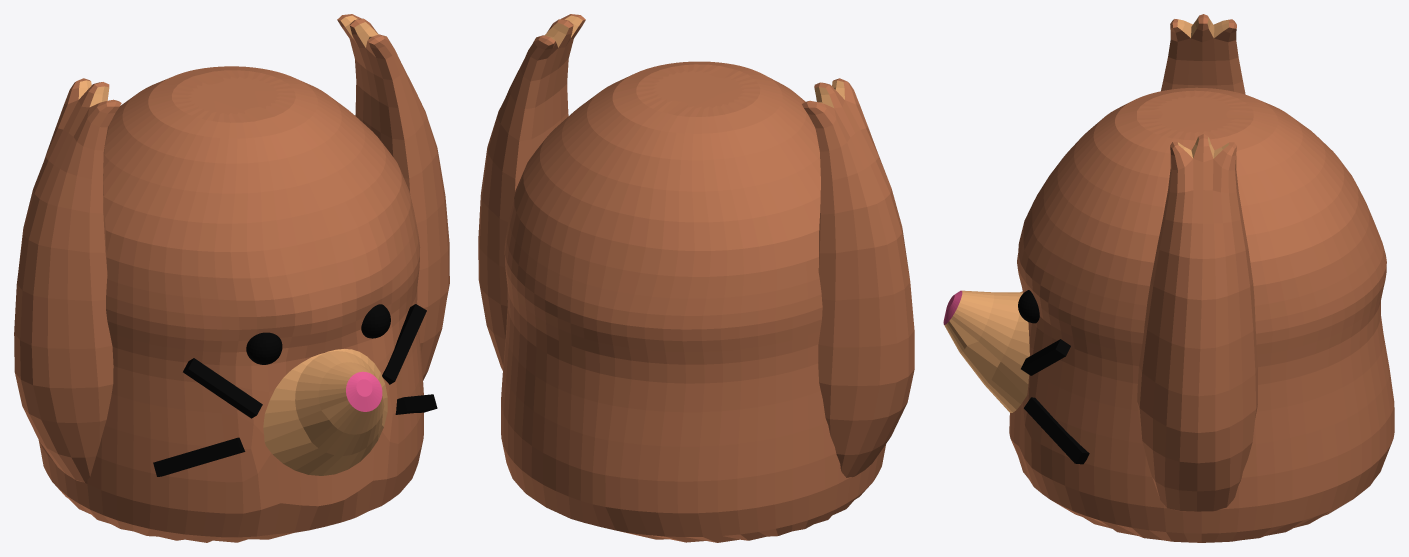
Rendered from BombMole.fbx.
3 renders of one model, left to right at view 1: azimuth 30°, elevation 25°; view 2: azimuth 150°, elevation 25°; view 3: azimuth 270°, elevation 25°, orthographic. The views are drawn at different scales.
Parts seen in each view (by area): view 1: Cylinder, Cube.002, Cylinder.001, Cube, Cube.001, Sphere; view 2: Cylinder, Cube.002; view 3: Cylinder, Cube.002, Cylinder.001, Cube.001, Cube, Sphere.
Part boxes in pixels (bbox=[...]): Cylinder: bbox=[38, 66, 423, 542]; Cube.002: bbox=[14, 14, 449, 482]; Cylinder.001: bbox=[263, 349, 387, 475]; Cube: bbox=[183, 304, 426, 418]; Cube.001: bbox=[153, 394, 437, 476]; Sphere: bbox=[246, 304, 390, 364]; Cylinder: bbox=[501, 61, 885, 542]; Cube.002: bbox=[478, 14, 914, 477]; Cylinder: bbox=[1009, 87, 1394, 542]; Cube.002: bbox=[1137, 14, 1257, 511]; Cylinder.001: bbox=[943, 290, 1029, 412]; Cube.001: bbox=[1024, 397, 1089, 464]; Cube: bbox=[1021, 339, 1070, 375]; Sphere: bbox=[1018, 290, 1039, 323].
Size of the model in its own units: 261 by 255 by 255.
